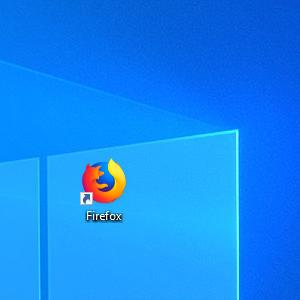firefox: (80, 156, 128, 205)
